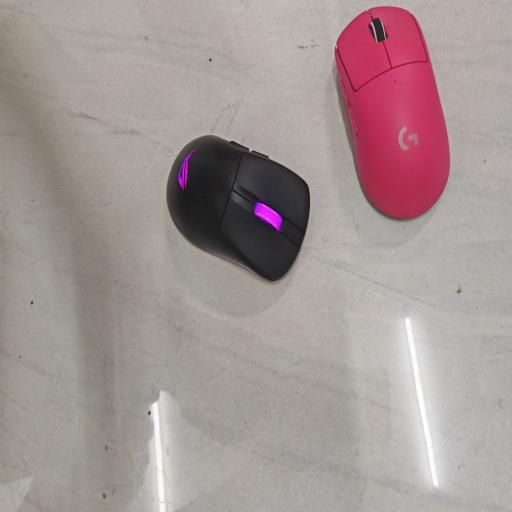mouse: (334, 7, 450, 218), (166, 136, 310, 280)
